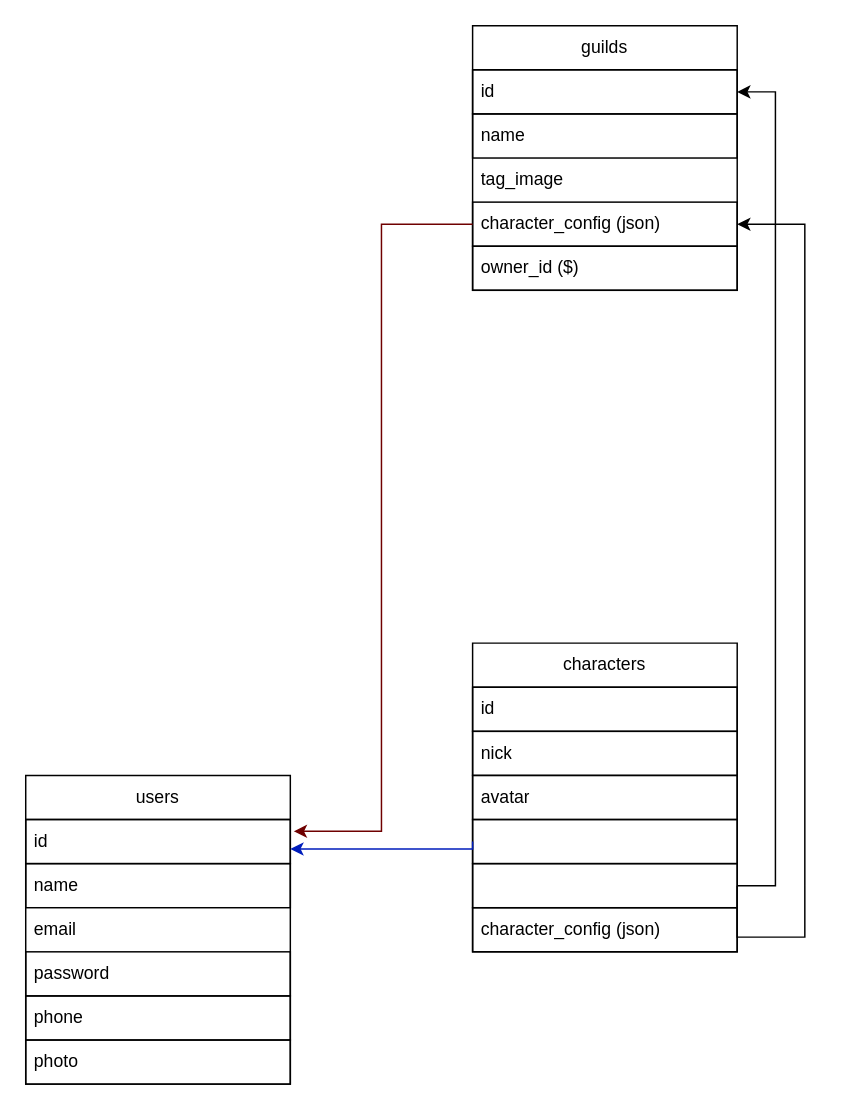
This 842x1110 diagram has some shape labels left out. Each missing label, with the centre of its shape:
"guild_id" goes at (604,885).
"player_id" goes at (604,841).
